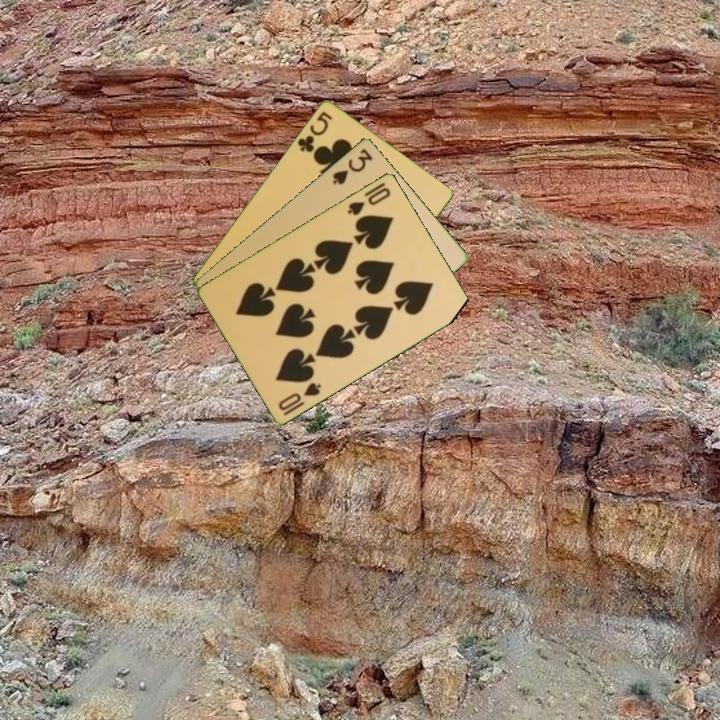10s: (275, 378, 324, 418), (344, 183, 394, 218)
3s: (329, 145, 376, 187)
5c: (294, 107, 335, 155)
